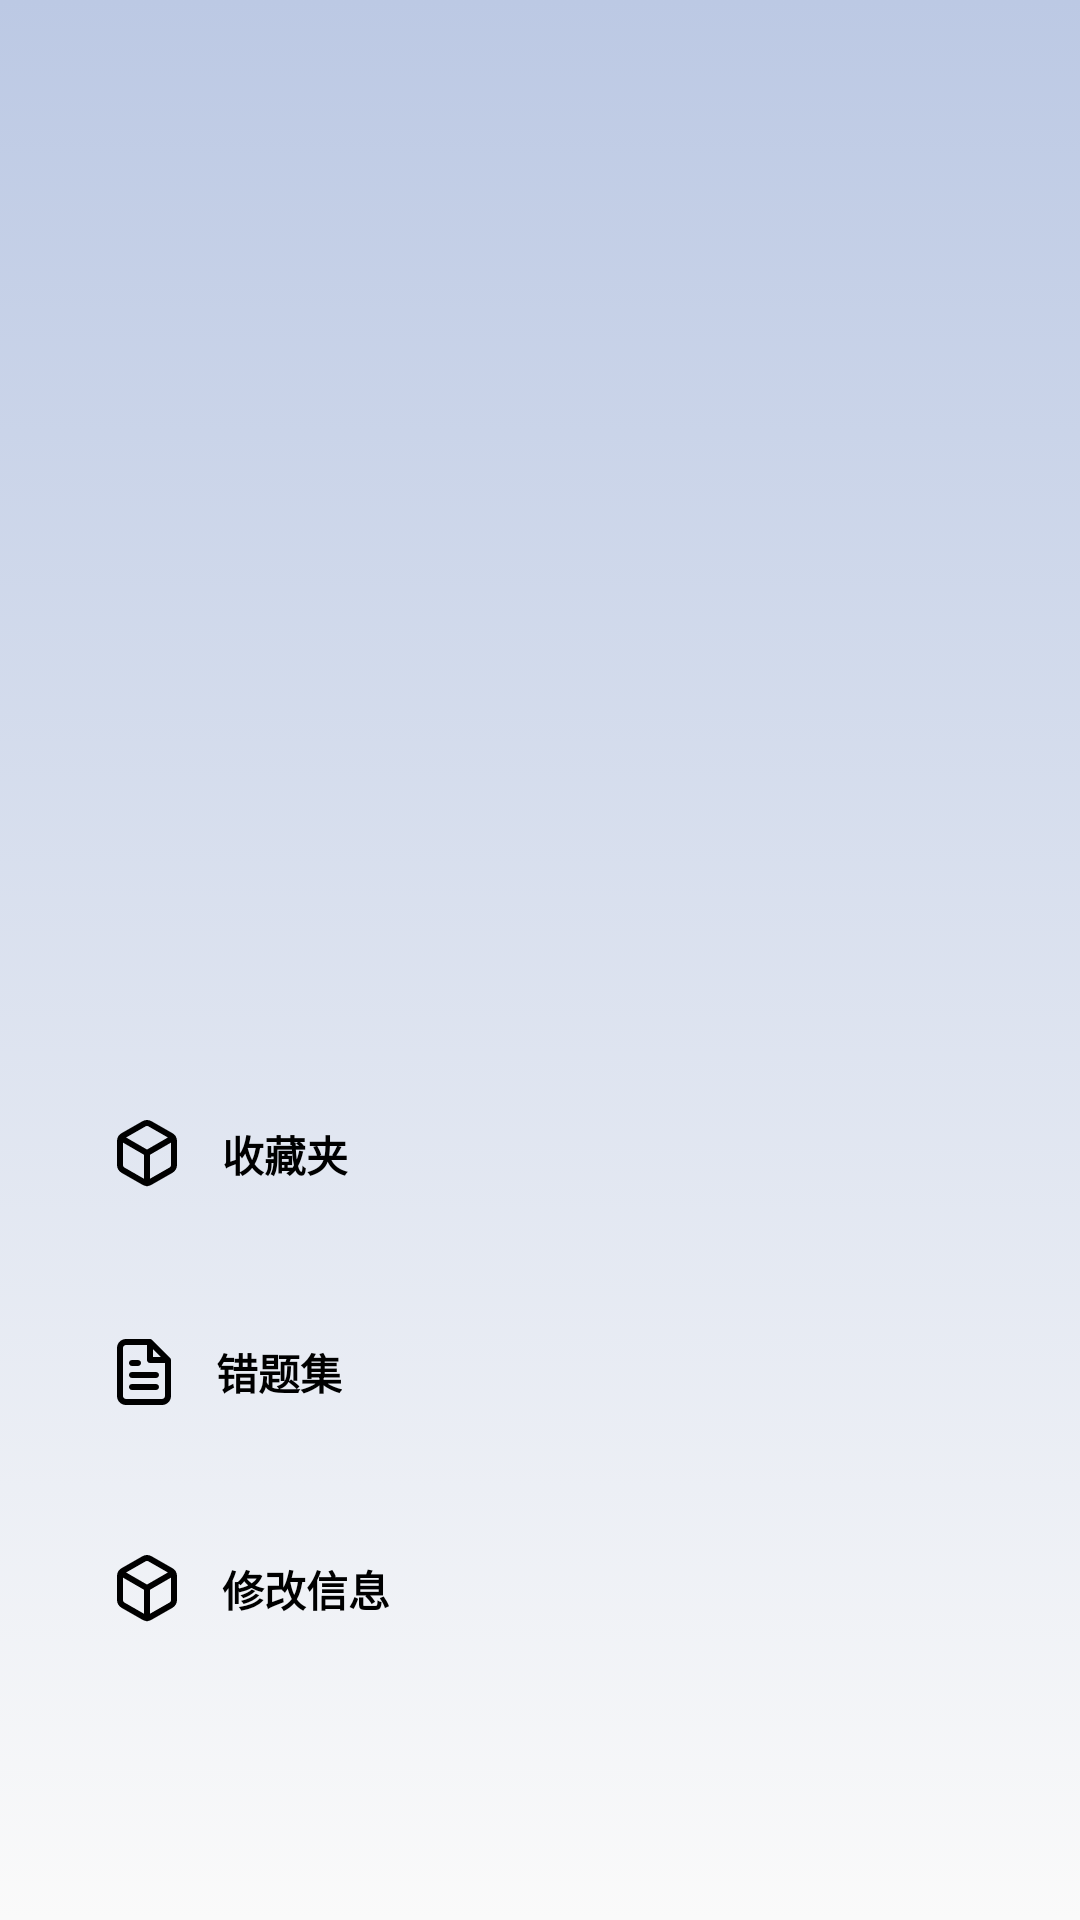

Screen size 1080px x 1920px. Icon name, then its center in pixels as [x,y]:
collection: [147,1153], [147,1588]
wrong collect: [144,1372]
